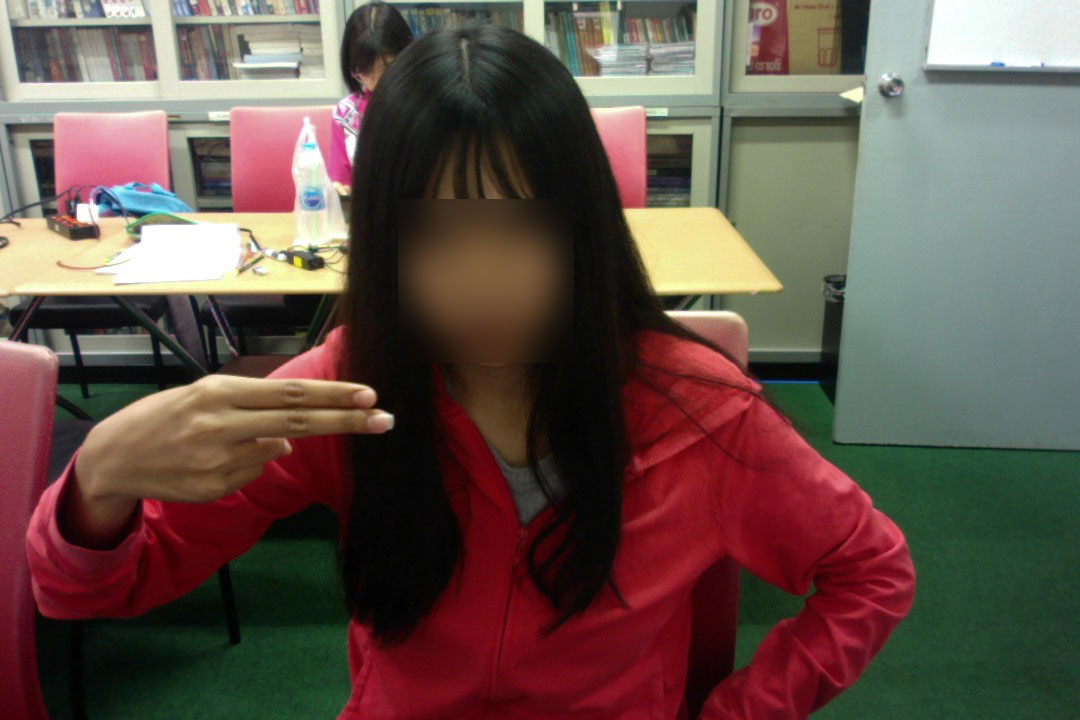hor: (58, 366, 397, 507)
